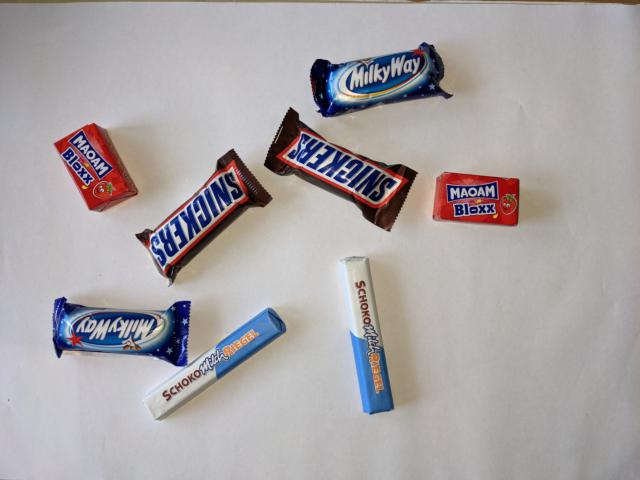MAOAM: (52, 121, 141, 215), (431, 170, 523, 230)
MilkyWay: (307, 40, 454, 120), (49, 295, 193, 370)
Schokoriegel: (137, 304, 289, 424), (337, 253, 397, 416)
Snickers: (263, 105, 419, 233), (134, 146, 274, 288)
